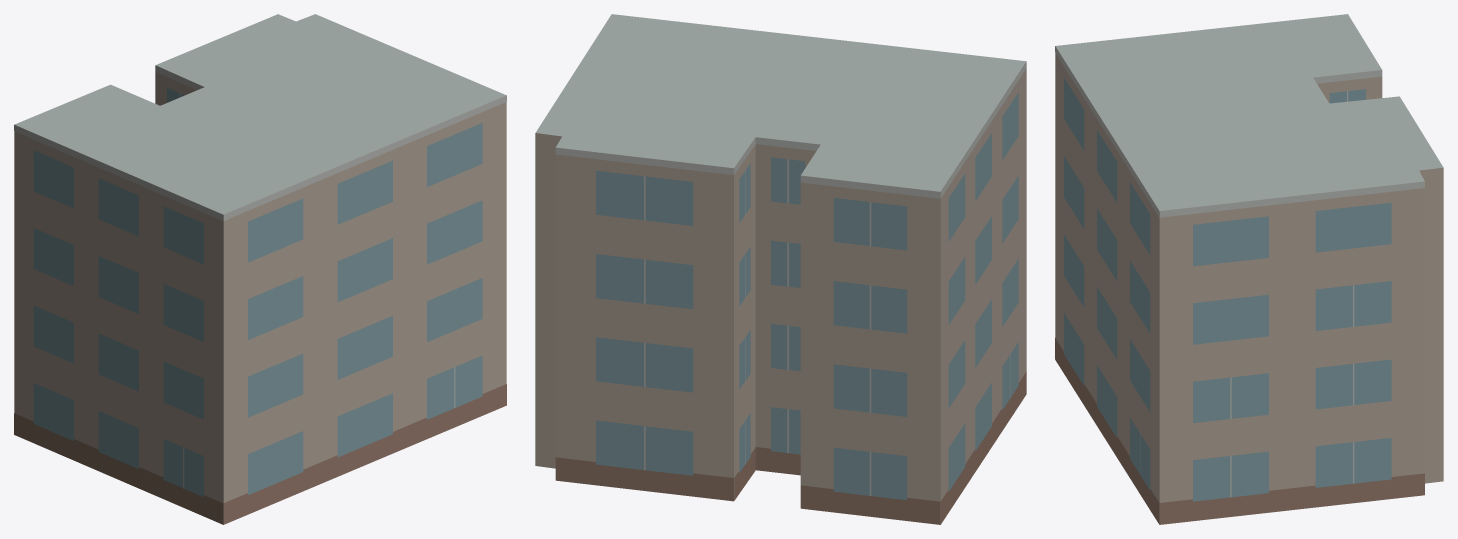
File: survey-upis-32696068.glb
The picture shows the model from 3 angles, left to right: view 1: azimuth 30°, elevation 25°; view 2: azimuth 150°, elevation 25°; view 3: azimuth 270°, elevation 25°; orthographic projection. The views are drawn at different scales.
Visible parts, largest first — view 1: survey-upis-32696068.tmp; view 2: survey-upis-32696068.tmp; view 3: survey-upis-32696068.tmp.
Boxes of the visible parts, x1=… form: survey-upis-32696068.tmp: x1=14, y1=14, x2=506, y2=524; survey-upis-32696068.tmp: x1=535, y1=14, x2=1026, y2=524; survey-upis-32696068.tmp: x1=1055, y1=14, x2=1443, y2=524.
Size of the model in its own units: 15.78 by 11.7 by 13.14.
